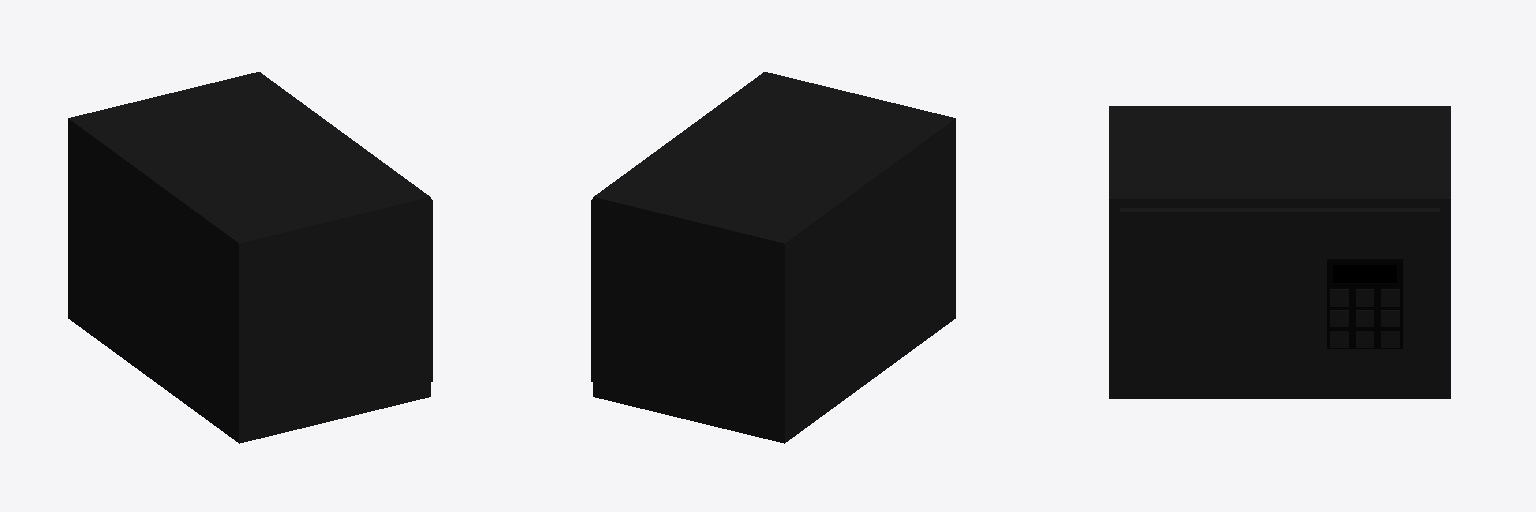
File: safe.obj
3 views of the same model, side by side, from view 1: azimuth 30°, elevation 25°; view 2: azimuth 150°, elevation 25°; view 3: azimuth 270°, elevation 25° (orthographic).
Parts seen in each view (by area): view 1: Cube; view 2: Cube; view 3: Cube.001, Cube.
Boxes of the visible parts, <box> form: Cube: <box>68,72,430,443</box>; Cube: <box>593,72,955,443</box>; Cube.001: <box>1120,208,1439,393</box>; Cube: <box>1109,106,1450,398</box>.
Size of the model in its own units: 2.14 by 2 by 3.1.